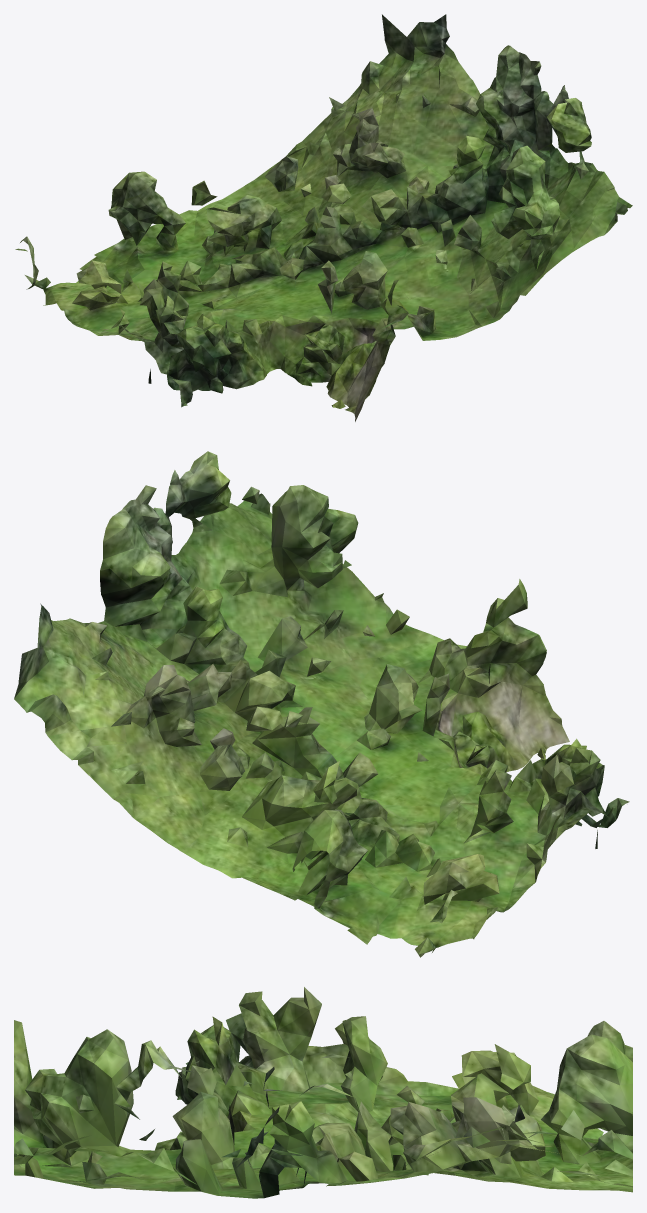
3 renders of one model, top to bottom at view 1: azimuth 30°, elevation 25°; view 2: azimuth 150°, elevation 25°; view 3: azimuth 270°, elevation 25°, orthographic. The views are drawn at different scales.
Bounding box in the file's own units: 104 × 57.34 × 104.
Materials: 5 (5 with a texture image).
